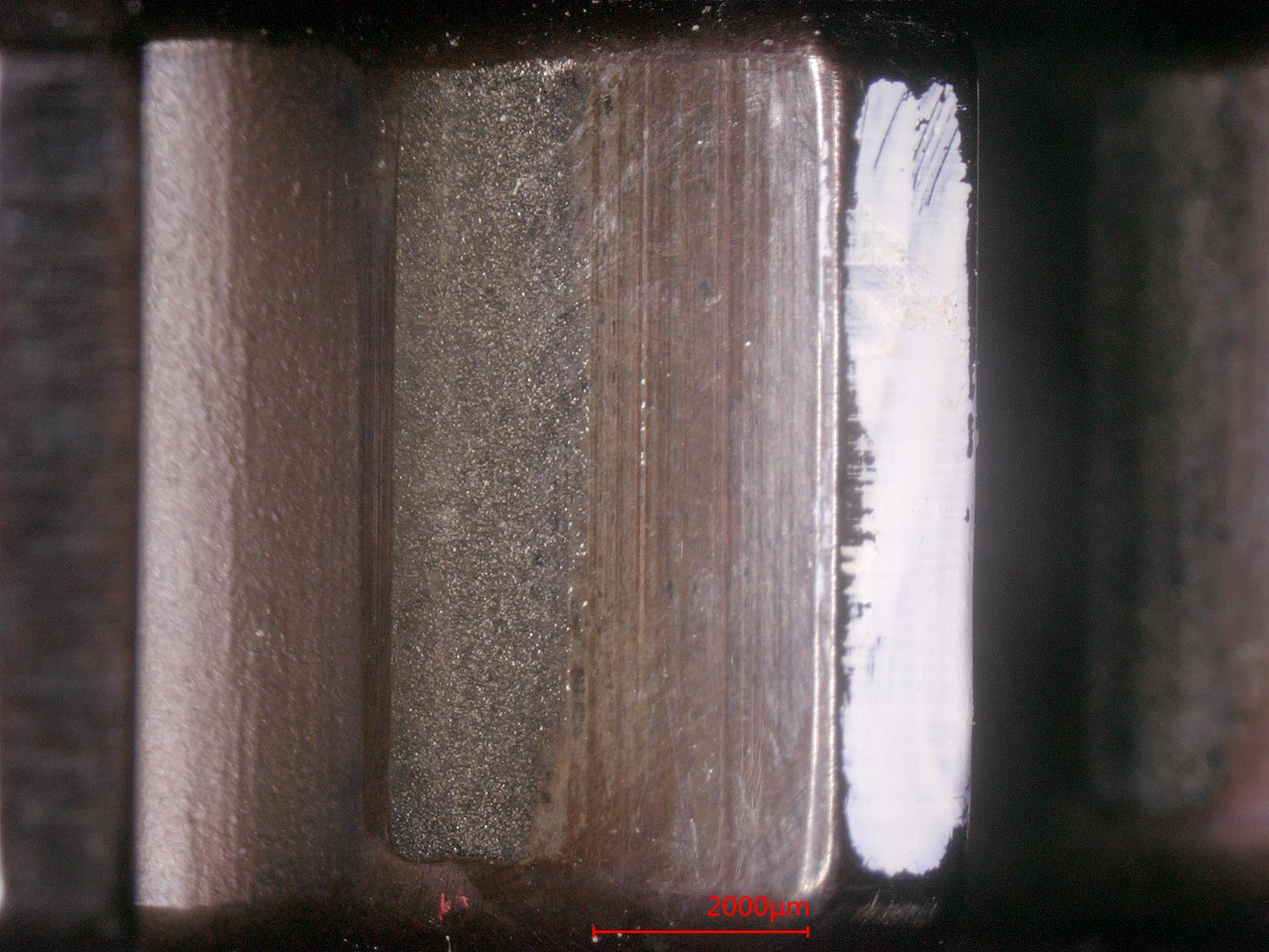Abrasion: (351, 56, 821, 903)
